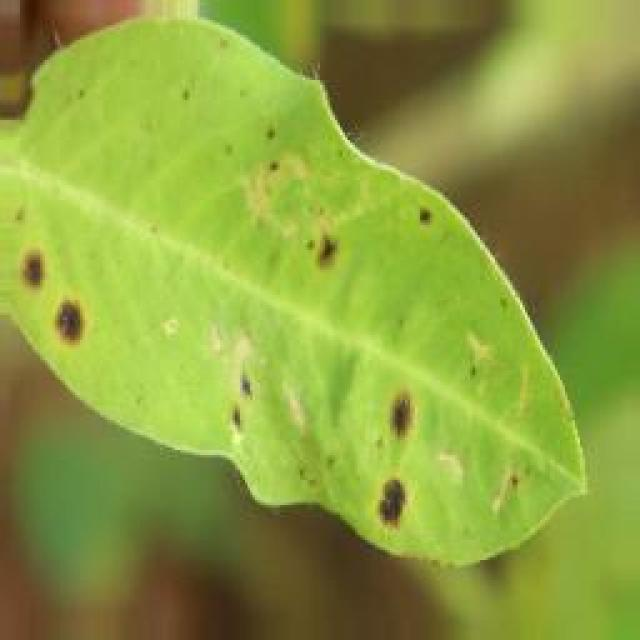Yellowish: (0, 74, 544, 594)
